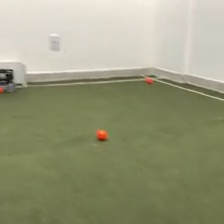ball: (95, 128, 108, 142), (144, 74, 154, 84), (1, 85, 5, 95)
goal: (1, 60, 27, 89)
robot: (1, 68, 16, 93)
